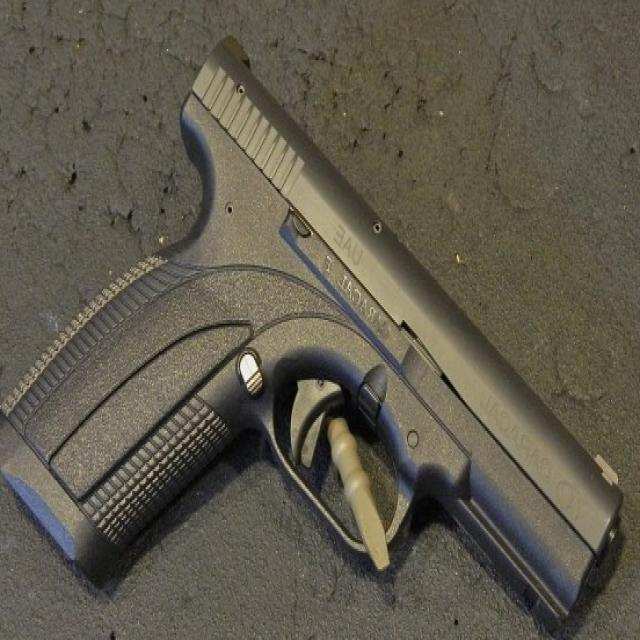Gun: (0, 91, 614, 640)
